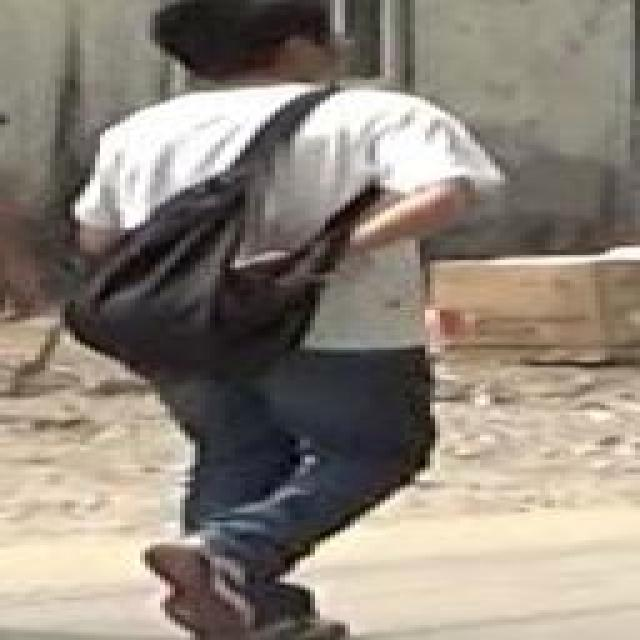adult: (39, 3, 504, 640)
